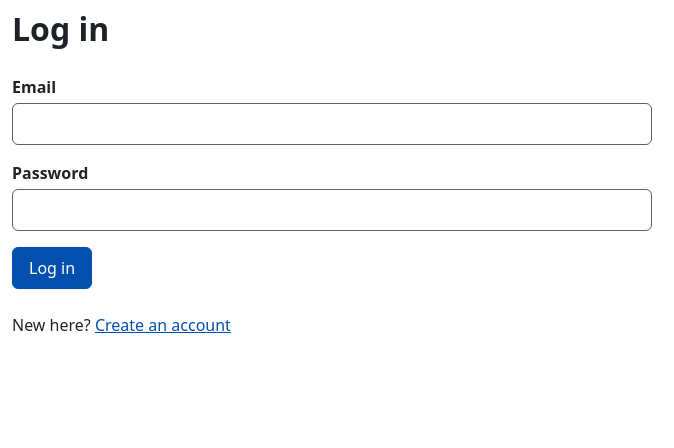
Test case: LoginPage › asks the user to wait after too many attempts
In the field labelled "Email": (332, 124) left=12, top=103, right=652, bottom=145, type "casey@example.com"
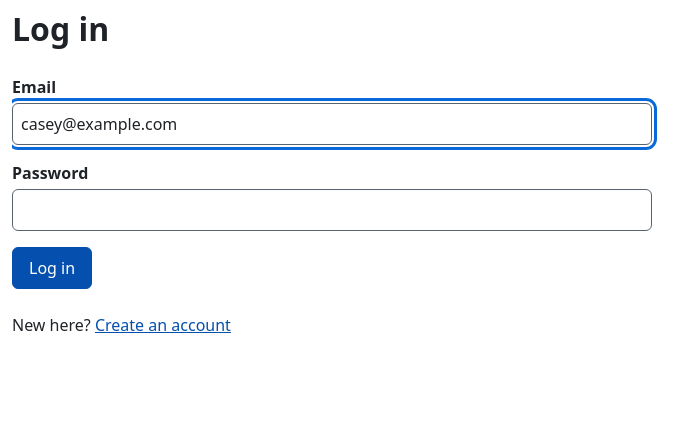
In the password field labelled "Password": (332, 210) left=12, top=189, right=652, bottom=231, type "password123"
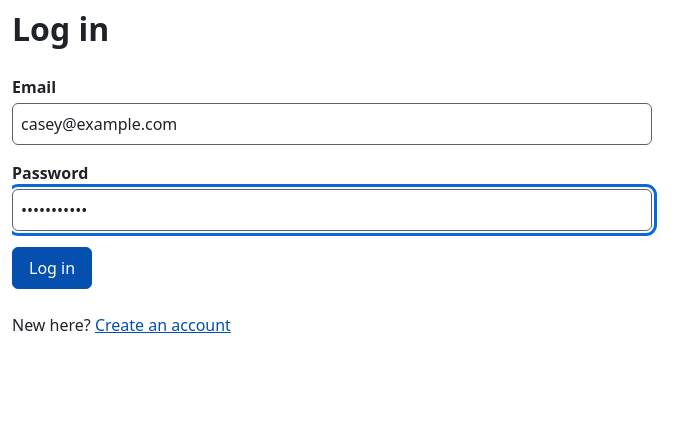
Click the button "Log in": click(52, 268) left=12, top=247, right=92, bottom=289
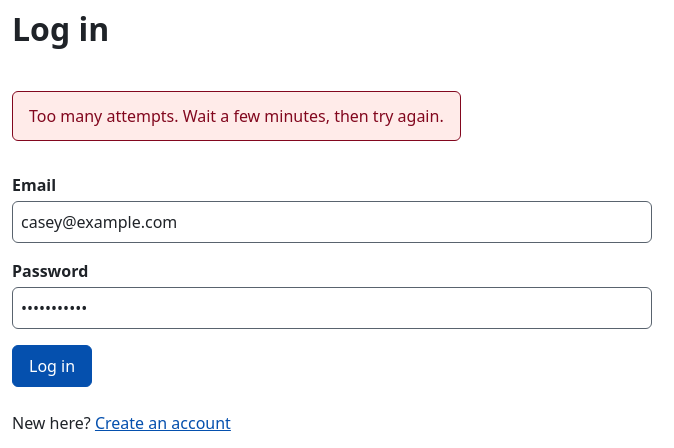
Check: the message shows "Wait a few minutes", box left=29, top=105, right=444, bottom=127
